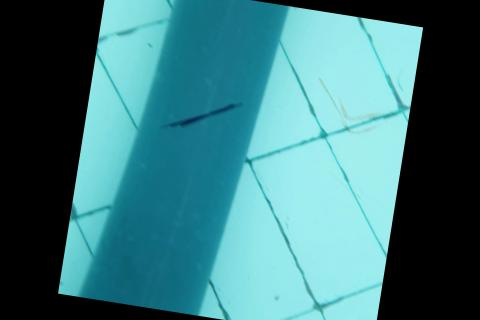keretakan: (158, 88, 242, 141)
